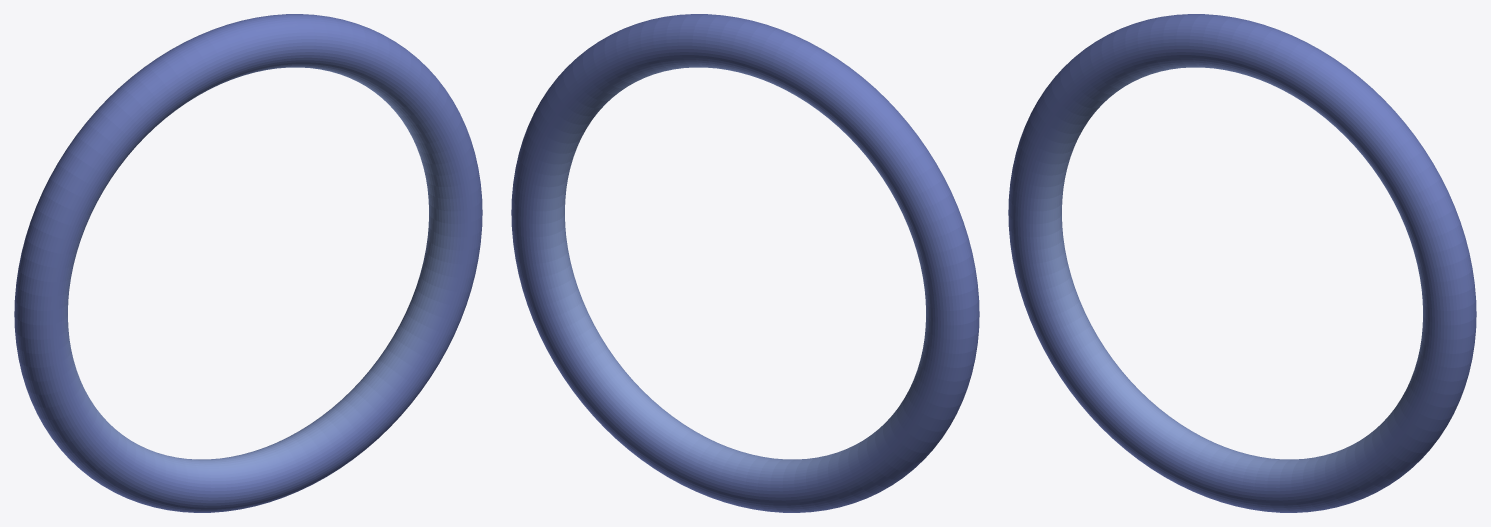
3 views of the same model, side by side, from view 1: azimuth 30°, elevation 25°; view 2: azimuth 150°, elevation 25°; view 3: azimuth 330°, elevation 25° (orthographic).
Visible parts, largest first — view 1: world; view 2: world; view 3: world.
Part boxes in pixels (<box>): world: <box>14,14,482,512</box>; world: <box>511,14,979,512</box>; world: <box>1008,14,1476,512</box>.
Size of the model in its own units: 25.2 by 25.2 by 2.53.
